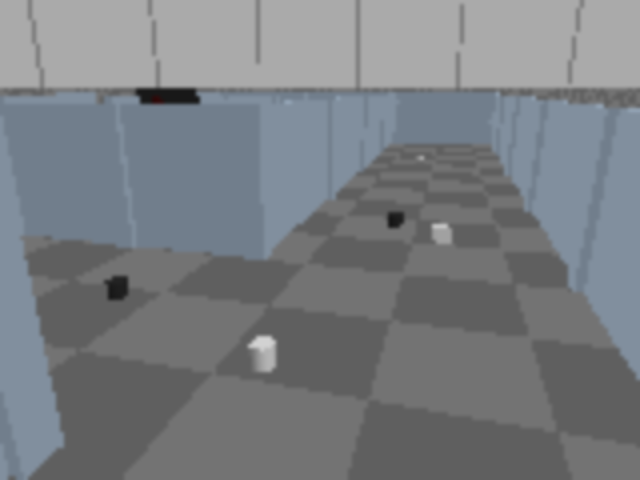puck: (251, 338, 274, 372), (108, 277, 128, 298), (431, 225, 452, 243), (386, 212, 403, 229)
